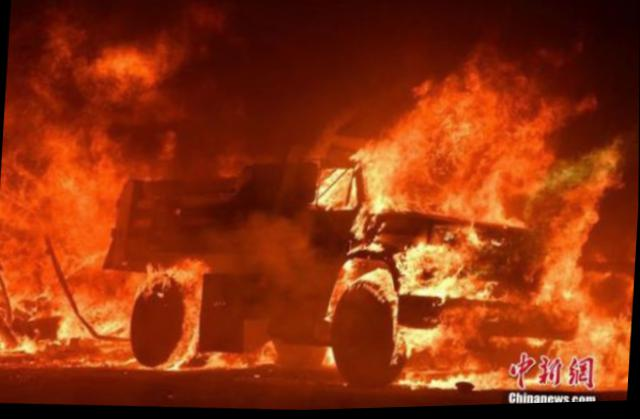fire: (0, 29, 639, 410)
